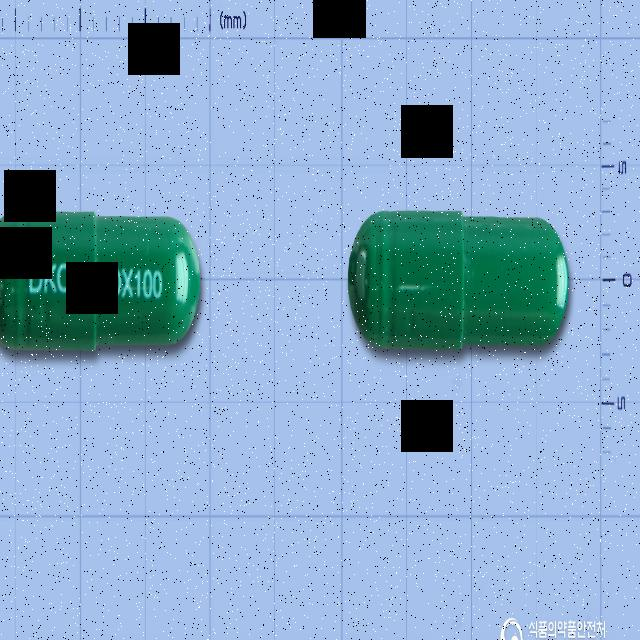Doxiramycin Cap: (0, 208, 202, 352)
